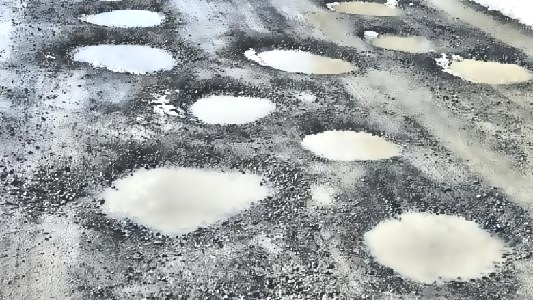pothole: (84, 151, 288, 241), (351, 202, 513, 287), (61, 33, 188, 76), (236, 34, 362, 76), (294, 122, 401, 162), (183, 84, 276, 125), (438, 52, 532, 86), (73, 4, 169, 27), (365, 29, 444, 54), (319, 0, 407, 18)
